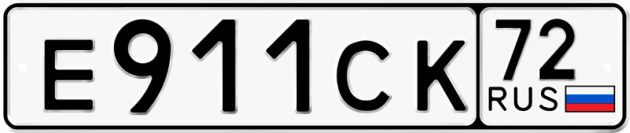number_plate: (2, 1, 622, 129)
